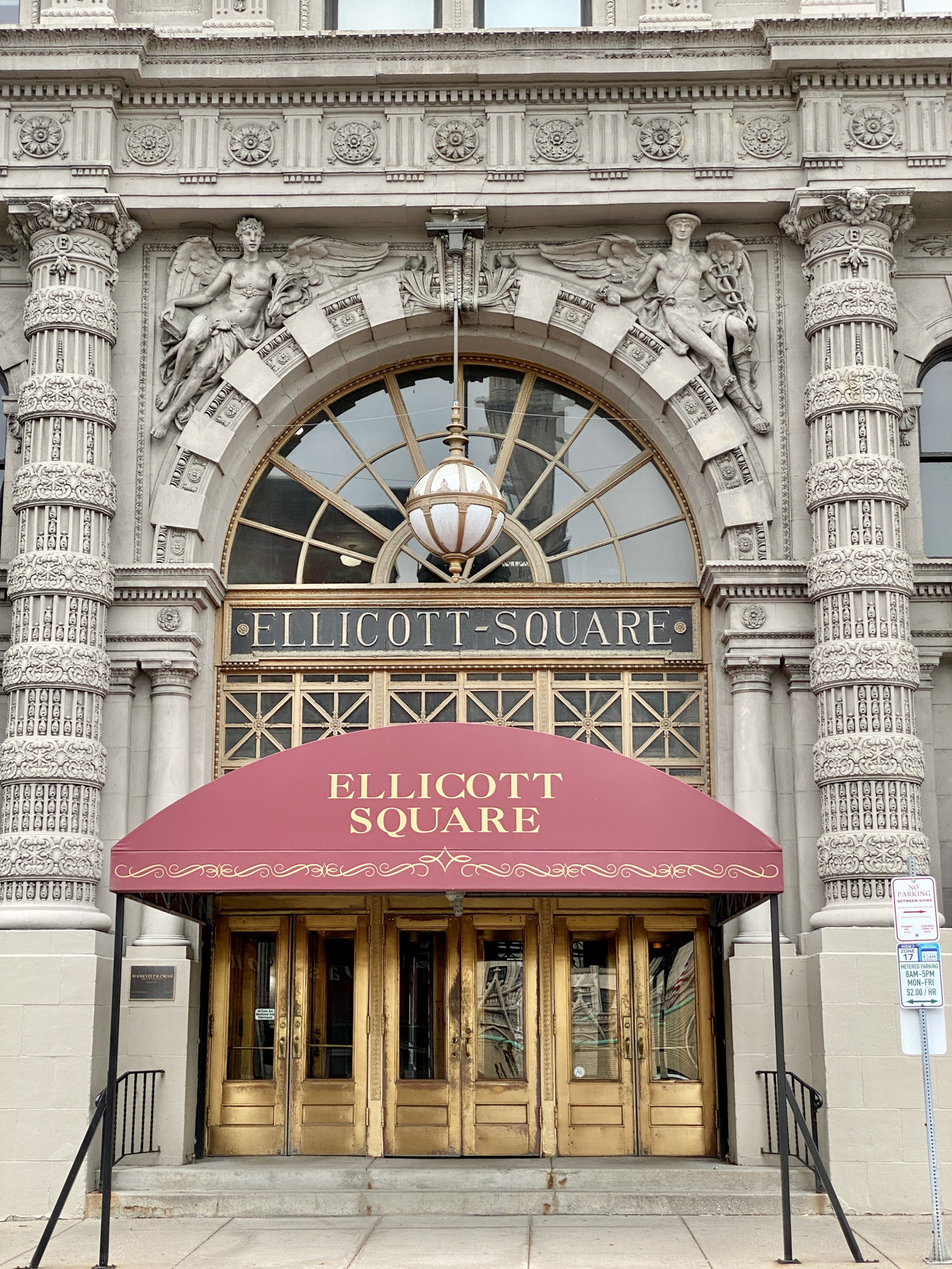fachada: (4, 4, 944, 1162)
